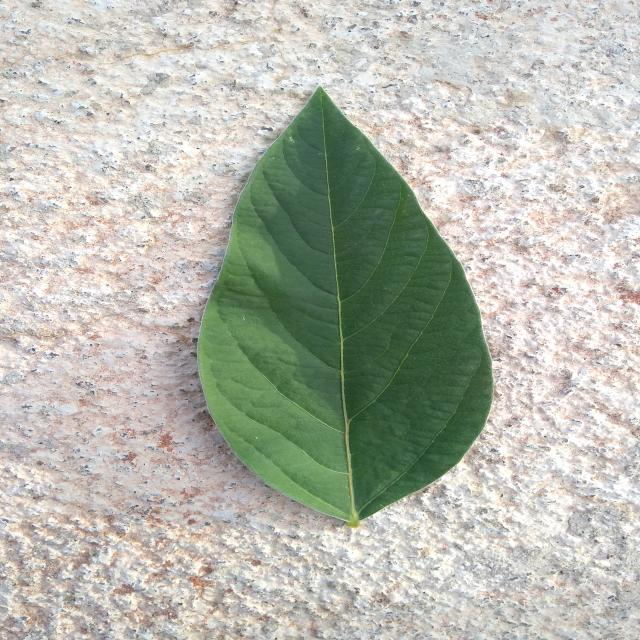pea: (198, 88, 493, 528)
